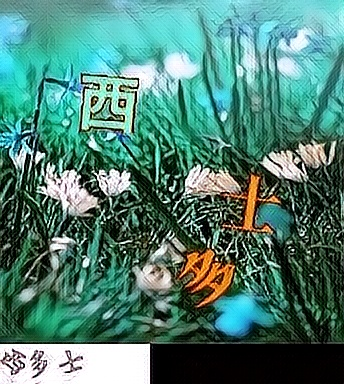B6E0: (174, 244, 239, 308)
CABF: (216, 170, 281, 234)
CEF7: (76, 70, 141, 134)
